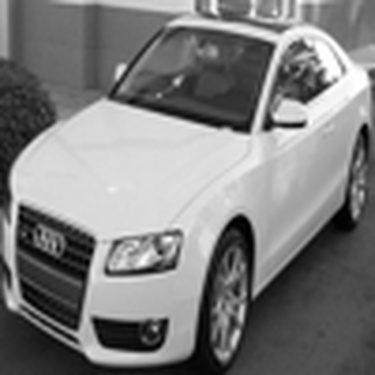car: (10, 10, 355, 357)
